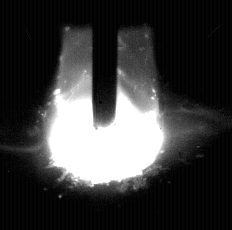arame: (93, 0, 117, 130)
poca: (47, 0, 165, 230)
